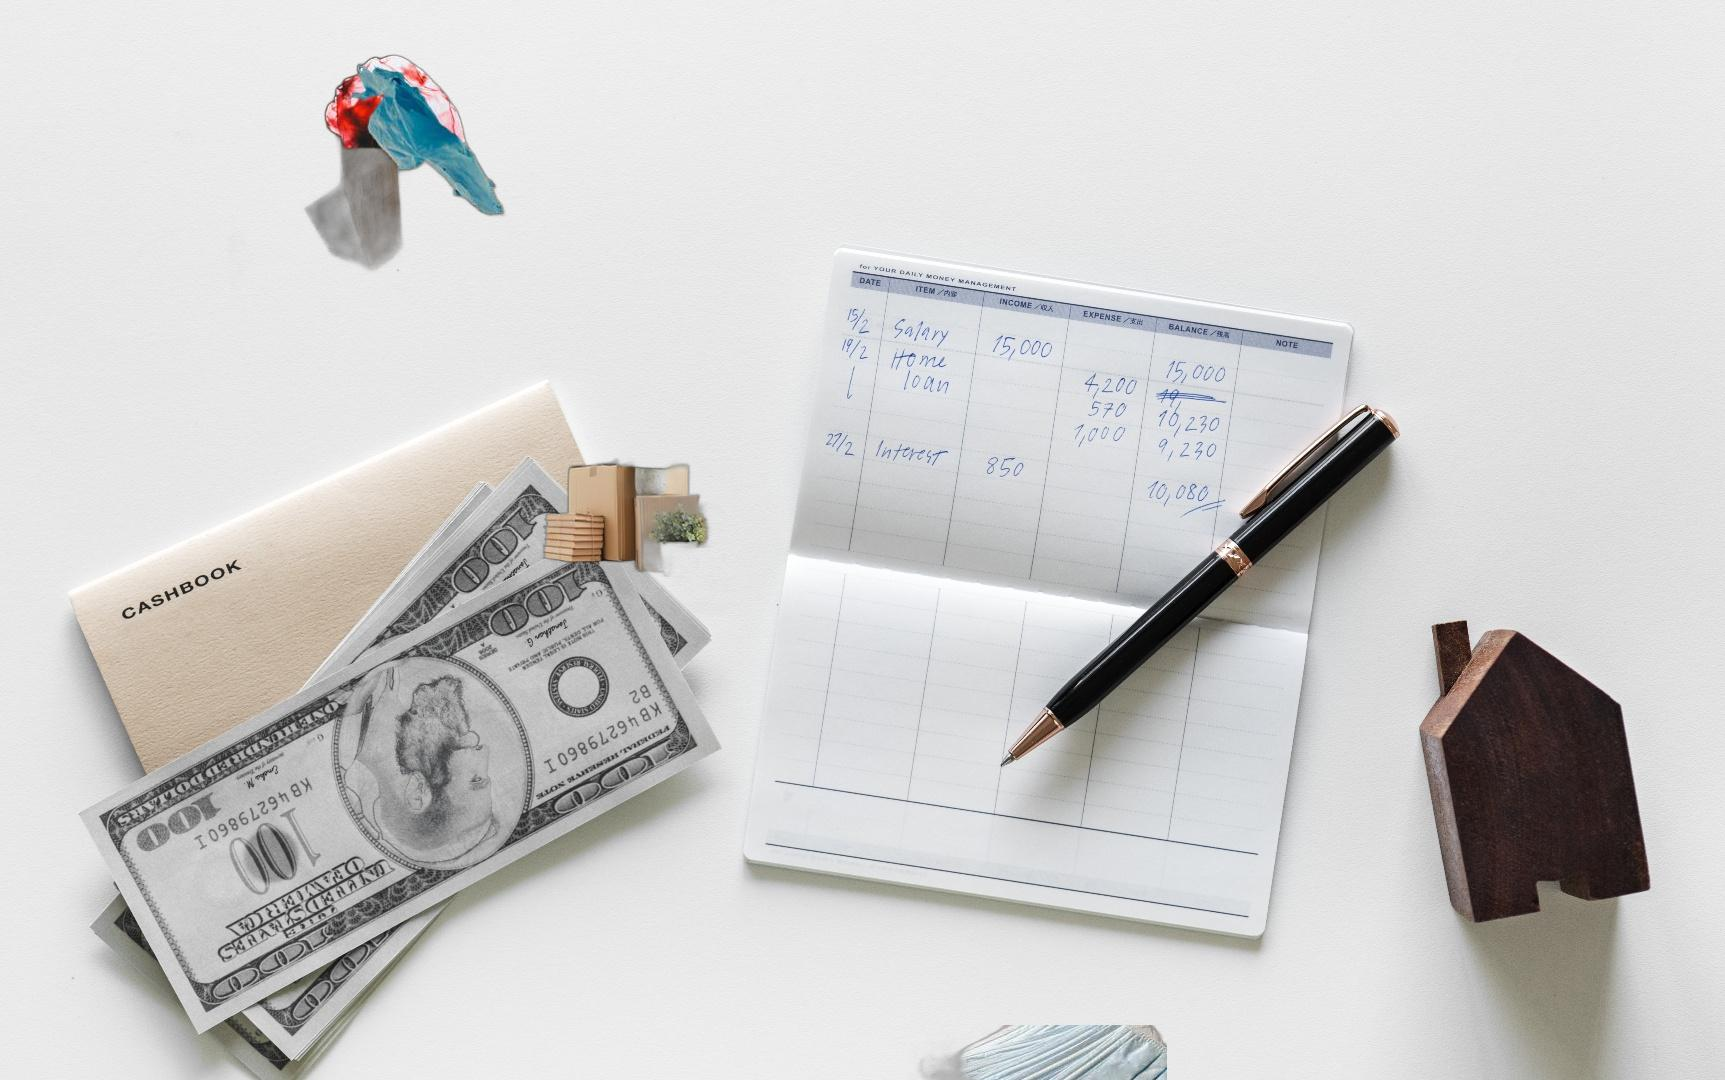plastic-bag: (225, 52, 507, 304)
trash: (908, 1025, 1167, 1080)
trashbox-cardboard: (540, 455, 747, 620)
